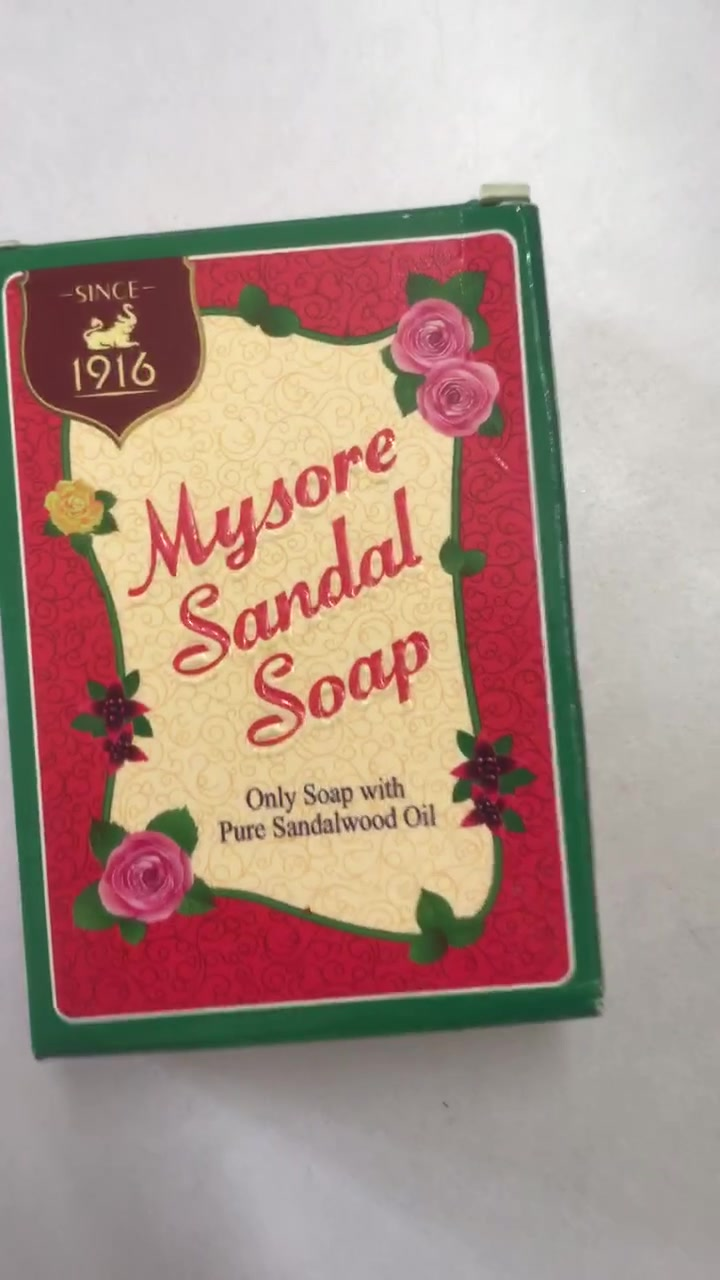mysore sandal soap: (3, 221, 610, 1056)
